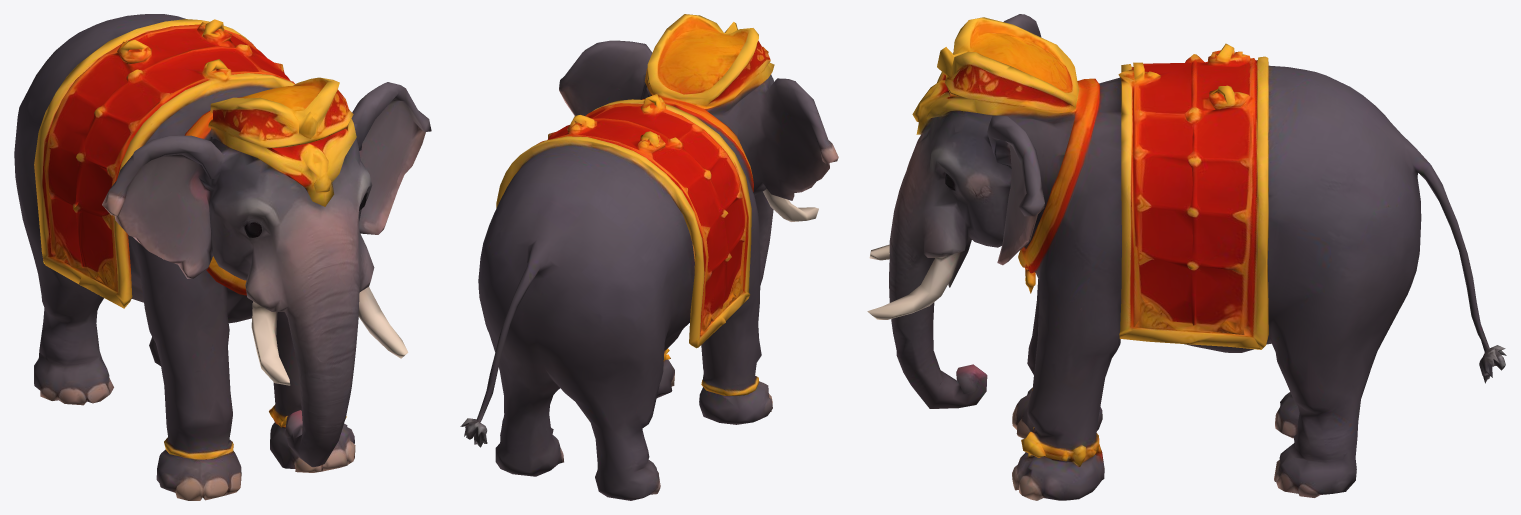
The model's file is royal_elephant.glb.
The picture shows the model from 3 angles, left to right: view 1: azimuth 30°, elevation 25°; view 2: azimuth 150°, elevation 25°; view 3: azimuth 270°, elevation 25°; orthographic projection. The views are drawn at different scales.
Parts seen in each view (by area): view 1: tripo_node_277890ef-7835-4d8d-aadf-c147066fbc47; view 2: tripo_node_277890ef-7835-4d8d-aadf-c147066fbc47; view 3: tripo_node_277890ef-7835-4d8d-aadf-c147066fbc47.
Part boxes in pixels (x1,y1,x2,y2): tripo_node_277890ef-7835-4d8d-aadf-c147066fbc47: (14,14,431,500); tripo_node_277890ef-7835-4d8d-aadf-c147066fbc47: (460,14,838,500); tripo_node_277890ef-7835-4d8d-aadf-c147066fbc47: (867,14,1506,500).
Size of the model in its own units: 0.6037 by 0.7262 by 1.
Materials: 1 (1 with a texture image).
